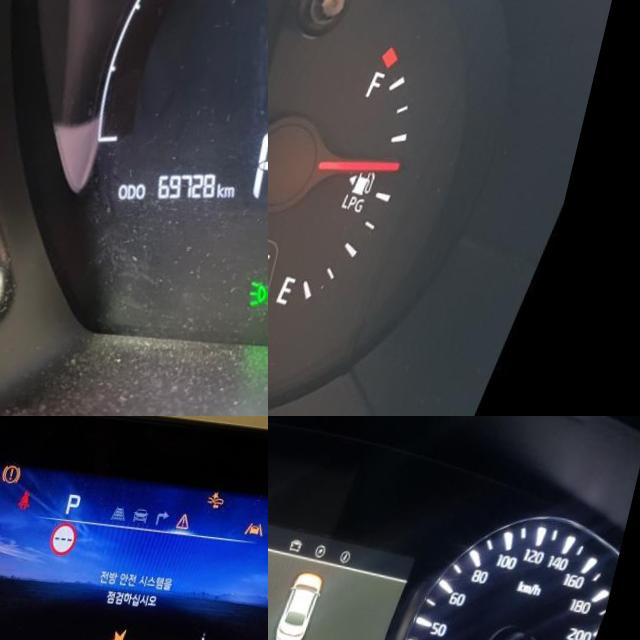Central Warning lamp: (188, 502, 204, 522)
LaneCenteringOff: (256, 511, 268, 527)
